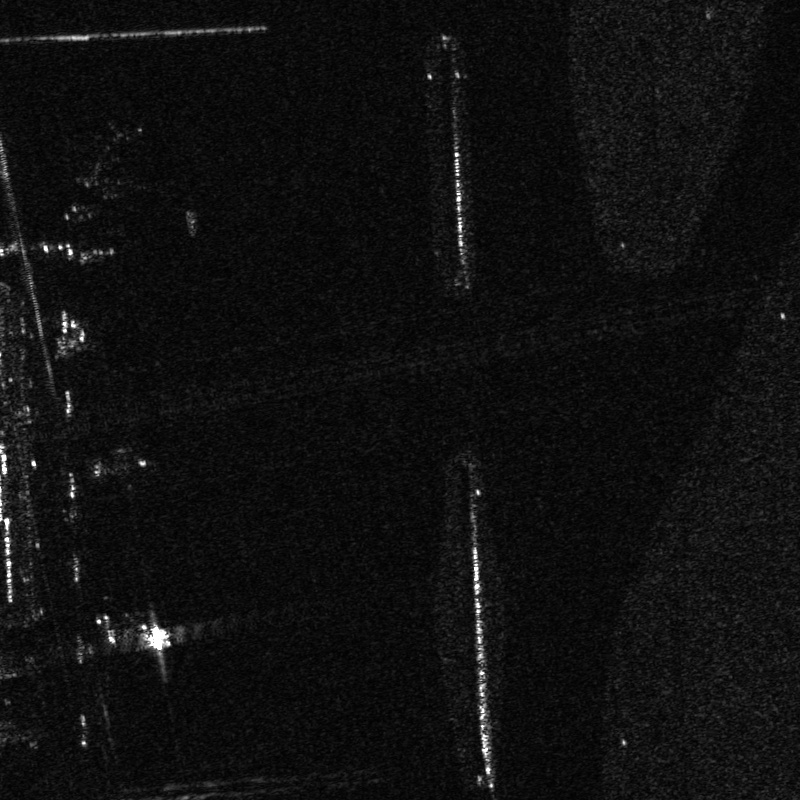A220: (79, 428, 157, 492)
